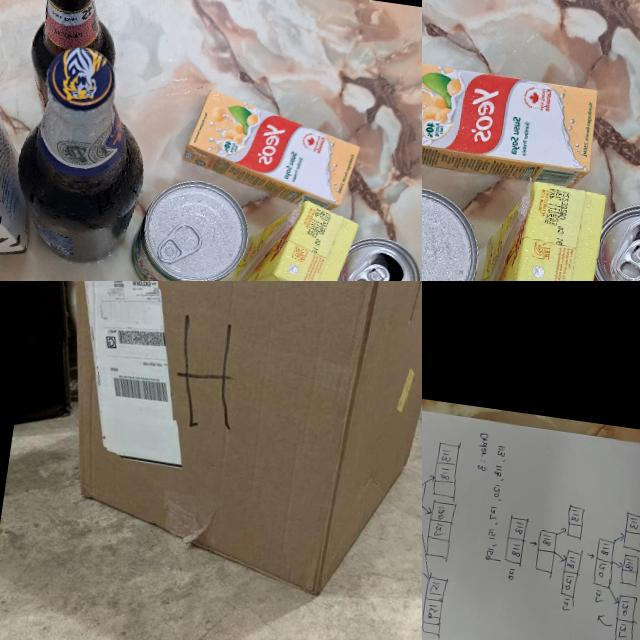aba de lata: (154, 210, 208, 268), (614, 232, 640, 281), (348, 257, 395, 281)
caixinha: (175, 84, 372, 202), (422, 57, 599, 186), (475, 174, 606, 281), (232, 190, 368, 281)
garrafa de vidro: (3, 45, 154, 275), (17, 0, 123, 125)
lata: (125, 172, 258, 281), (422, 176, 486, 281), (579, 200, 640, 281), (325, 241, 422, 281)
papel: (422, 383, 640, 640)
papelão: (7, 281, 422, 609)
